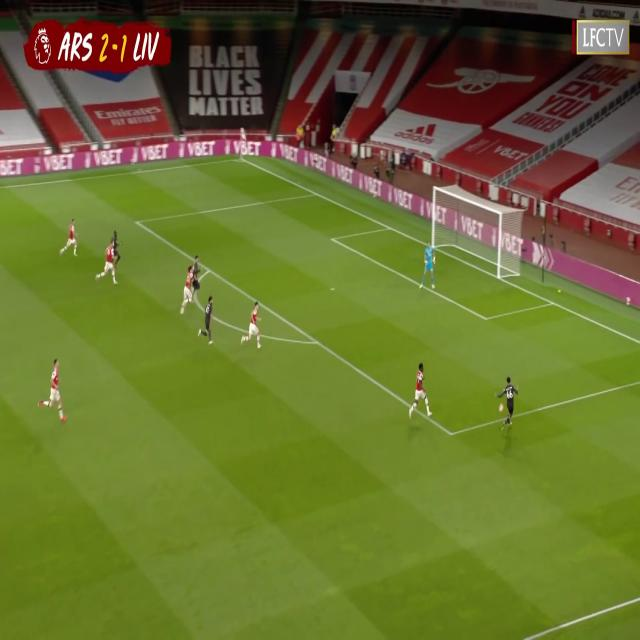Ball: (498, 400, 505, 415)
GoalKeeper: (422, 242, 438, 289)
TEAM 1: (44, 360, 66, 426), (412, 364, 434, 421), (96, 237, 117, 284), (180, 262, 195, 316), (245, 302, 262, 348), (60, 220, 78, 258)
TEAM 2: (494, 377, 517, 431), (197, 297, 214, 340), (192, 254, 201, 295), (114, 228, 121, 270)
